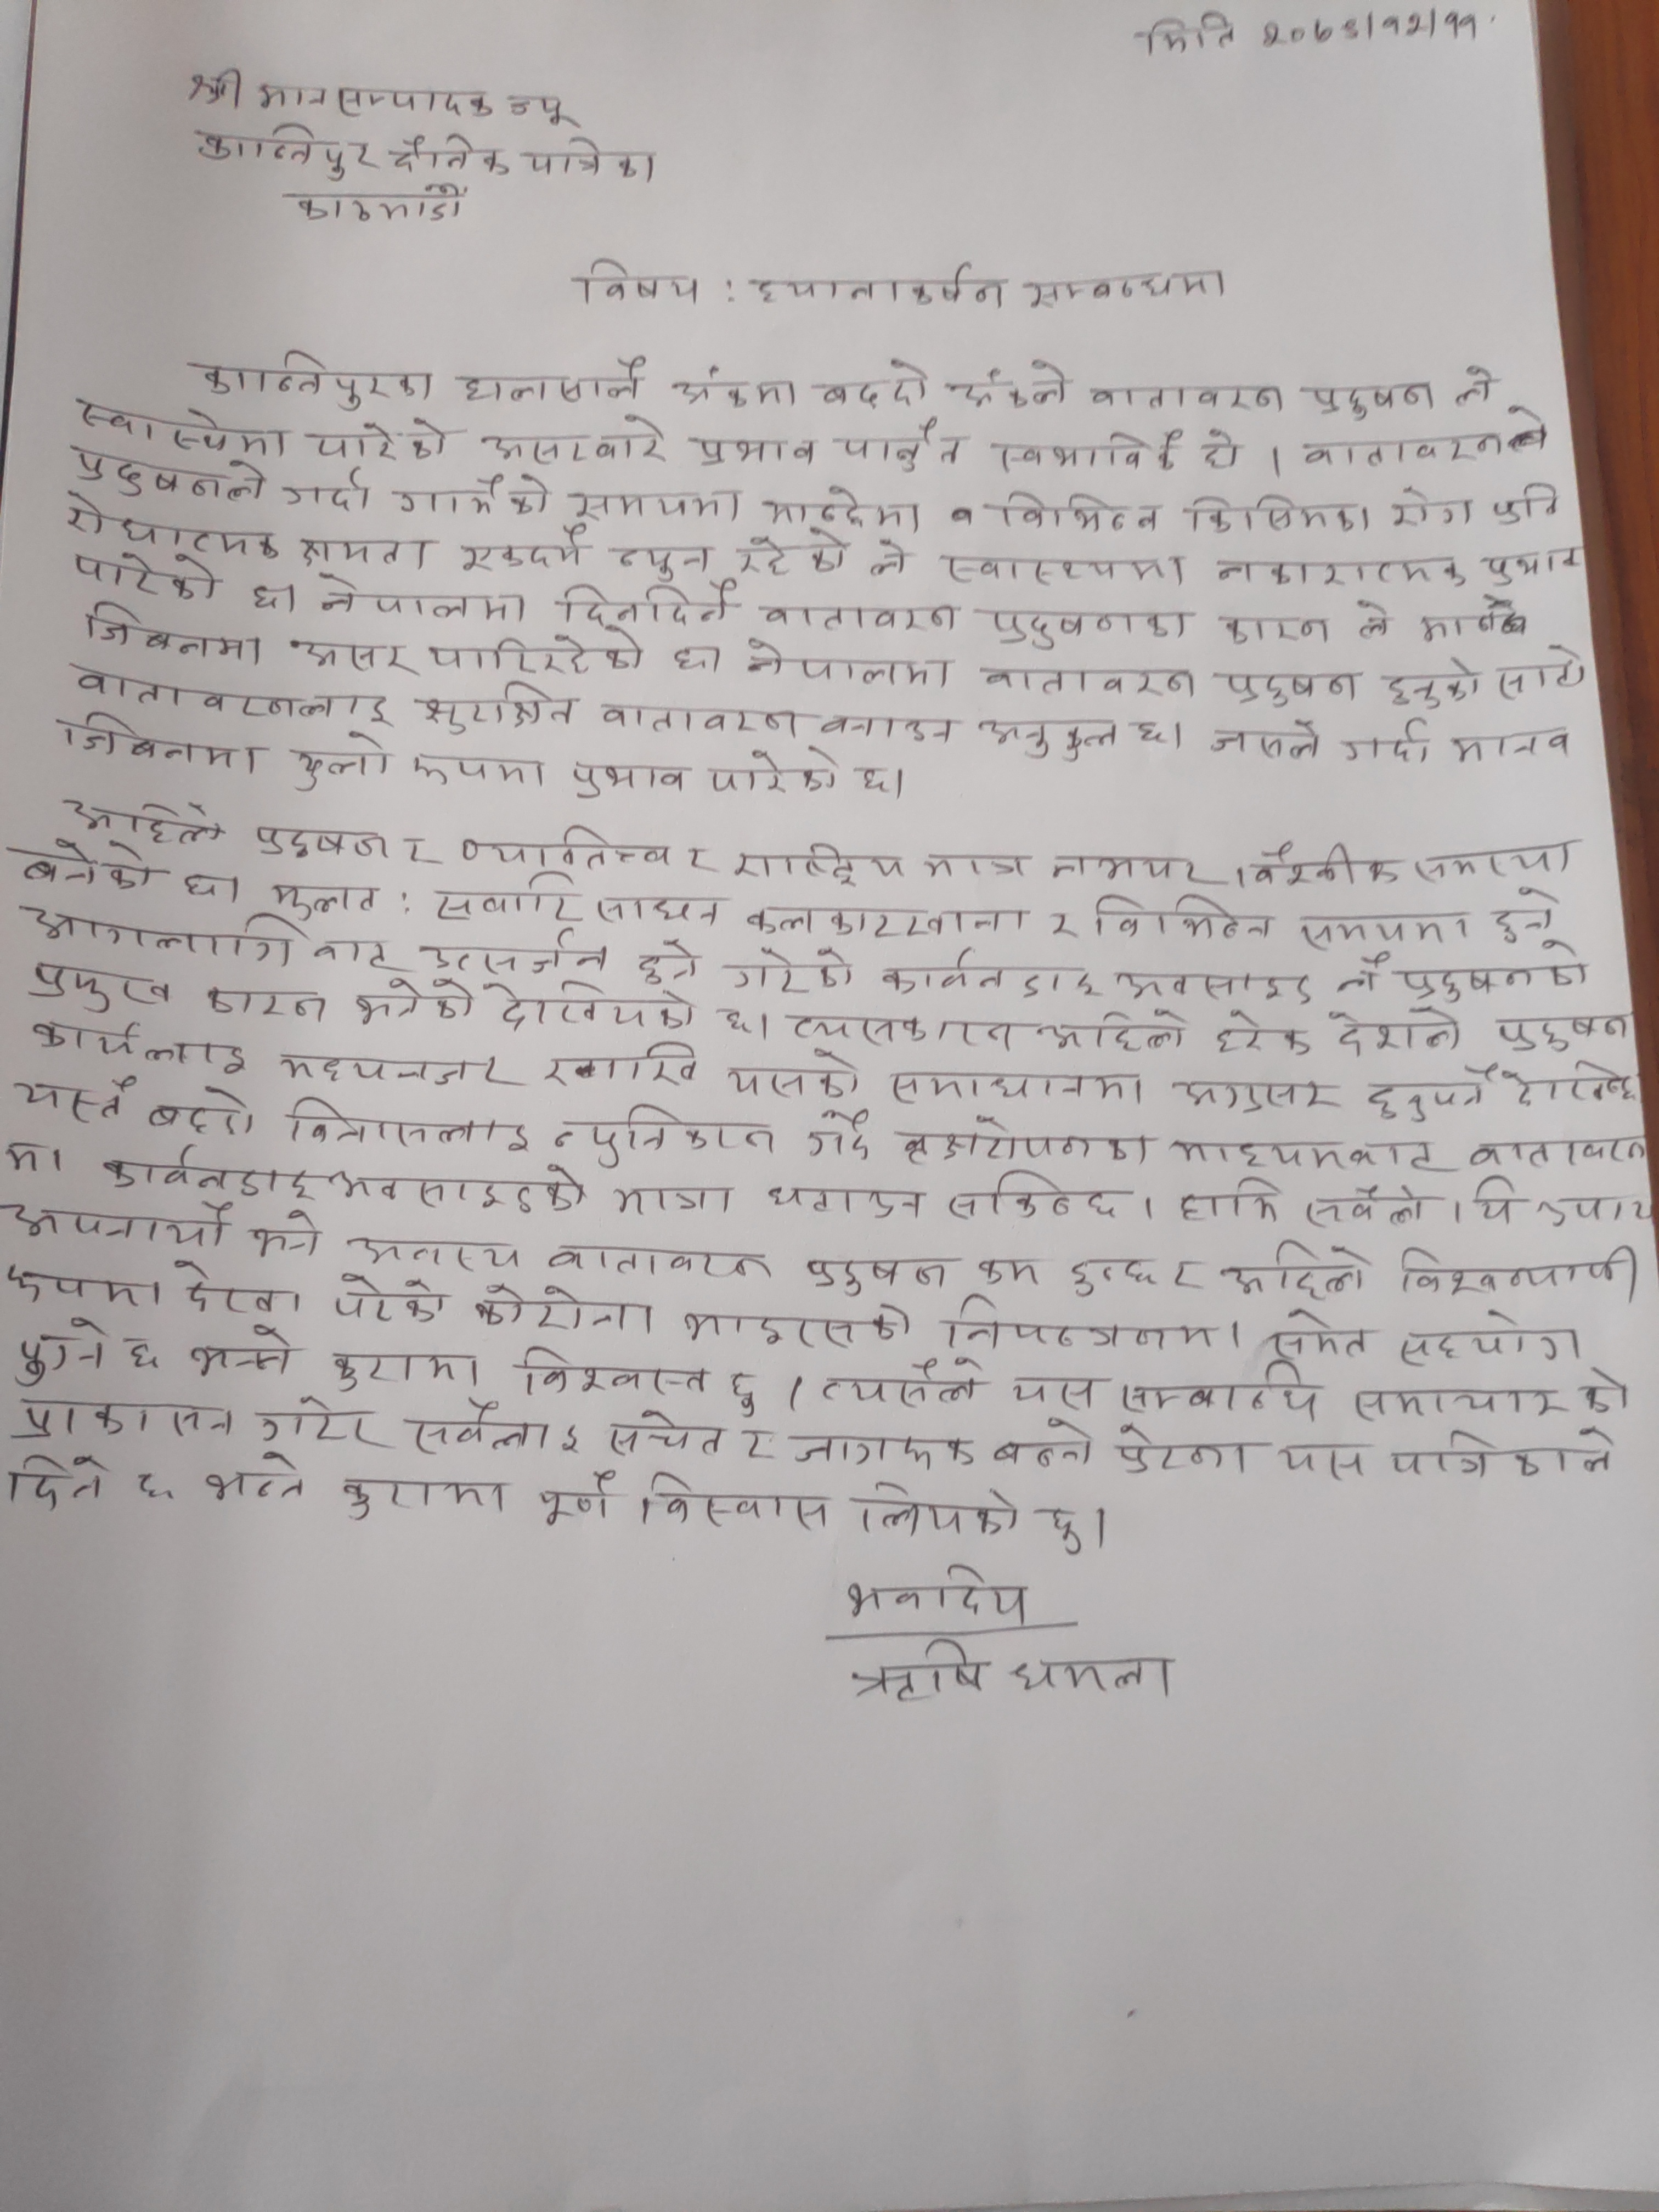text: (66, 667, 401, 728), (24, 900, 296, 975), (939, 1298, 1251, 1359), (279, 1094, 530, 1160), (551, 1099, 779, 1169), (1392, 1240, 1643, 1303), (70, 390, 295, 460), (192, 348, 439, 411), (23, 1014, 253, 1078), (329, 1162, 594, 1217), (737, 895, 1033, 944), (56, 495, 279, 559), (2, 1191, 235, 1252), (889, 1116, 1161, 1167), (71, 601, 268, 671), (1295, 416, 1554, 469), (877, 942, 1105, 1001), (1166, 1127, 1452, 1174), (270, 1040, 511, 1096), (51, 718, 263, 780), (1119, 1359, 1319, 1425), (840, 1562, 1030, 1632), (105, 1141, 321, 1202), (674, 1296, 917, 1350), (746, 261, 1009, 310), (312, 571, 533, 629), (479, 979, 701, 1036), (936, 542, 1194, 590), (878, 1062, 1145, 1109), (1384, 1428, 1621, 1480), (638, 1470, 835, 1533), (1209, 547, 1471, 594), (1396, 1308, 1588, 1371), (404, 1395, 587, 1460), (10, 1397, 235, 1449), (477, 411, 676, 469), (54, 449, 272, 502), (469, 1278, 655, 1339), (735, 637, 951, 690), (420, 629, 648, 678), (518, 1343, 711, 1400), (192, 122, 378, 181), (1019, 261, 1230, 314), (976, 601, 1194, 651), (455, 822, 676, 871), (542, 1237, 779, 1282), (781, 1007, 1016, 1052), (850, 1479, 1025, 1540), (1093, 890, 1284, 944), (1258, 7, 1486, 52), (845, 1637, 997, 1705), (812, 1353, 985, 1413), (453, 357, 652, 408), (1345, 1378, 1567, 1423), (988, 427, 1192, 475), (1215, 1238, 1373, 1301), (410, 679, 584, 735), (945, 1169, 1124, 1223), (429, 869, 591, 928), (983, 660, 1201, 704), (547, 578, 734, 629), (1389, 958, 1596, 1003), (786, 1425, 983, 1472), (64, 798, 230, 853), (1114, 1418, 1253, 1484), (1007, 1648, 1178, 1702), (162, 1256, 305, 1320), (999, 484, 1166, 538), (1110, 963, 1317, 1007), (336, 1472, 509, 1524), (537, 1040, 702, 1094), (730, 840, 906, 890), (1413, 836, 1589, 887), (420, 930, 612, 975), (796, 1245, 957, 1299), (66, 549, 221, 604), (1086, 380, 1291, 421), (599, 700, 805, 742), (343, 1228, 525, 1275), (277, 181, 472, 225), (1229, 841, 1403, 890), (28, 960, 179, 1015), (1033, 1003, 1185, 1059), (1361, 1059, 1492, 1123), (720, 1043, 866, 1101), (762, 596, 962, 637), (322, 1345, 488, 1395), (17, 841, 162, 899), (1297, 907, 1473, 954), (760, 482, 925, 531), (181, 1322, 301, 1388), (247, 1392, 385, 1449), (2, 1263, 164, 1312), (974, 712, 1122, 765), (1321, 1005, 1464, 1059), (1500, 1059, 1643, 1113), (1046, 845, 1220, 888), (1183, 493, 1378, 531), (1464, 1134, 1659, 1172), (559, 486, 746, 526), (1488, 1007, 1631, 1059), (286, 728, 396, 796), (12, 1315, 112, 1388), (394, 474, 554, 519), (706, 747, 843, 799), (328, 82, 498, 124), (716, 946, 857, 996), (1166, 1075, 1344, 1115), (451, 523, 587, 575), (143, 1080, 261, 1139), (565, 260, 706, 308), (342, 979, 477, 1029), (765, 1181, 929, 1223), (601, 1407, 727, 1461), (669, 362, 798, 415), (408, 747, 556, 792), (1384, 650, 1483, 716), (291, 631, 420, 681), (9, 1451, 110, 1515), (830, 416, 936, 477), (948, 359, 1075, 409), (992, 1418, 1100, 1477), (521, 139, 662, 185), (249, 820, 390, 866), (1300, 1181, 1431, 1230), (16, 1073, 136, 1125), (199, 979, 331, 1026), (1309, 373, 1436, 421), (329, 1277, 448, 1329), (1216, 669, 1363, 711), (1493, 643, 1591, 705), (735, 524, 849, 578), (310, 416, 450, 460), (387, 132, 511, 181), (1202, 716, 1324, 765), (1178, 1174, 1284, 1230), (1443, 721, 1574, 766), (1263, 1310, 1371, 1364), (202, 1453, 310, 1507), (819, 357, 931, 409), (1415, 599, 1534, 648), (1204, 1010, 1314, 1062), (1534, 1186, 1659, 1231), (1335, 718, 1439, 772), (587, 892, 725, 930), (606, 1179, 735, 1219), (291, 531, 432, 568), (816, 709, 960, 744), (533, 1468, 615, 1529), (694, 430, 817, 470), (1138, 12, 1239, 59), (261, 881, 380, 921), (803, 1104, 878, 1167), (1277, 1435, 1373, 1484), (1384, 482, 1478, 531), (279, 470, 380, 516), (570, 763, 688, 801), (1483, 547, 1591, 589), (1004, 1369, 1100, 1416), (606, 542, 713, 583), (1483, 887, 1565, 941), (246, 1207, 322, 1264), (1486, 479, 1570, 529), (1220, 611, 1333, 648), (631, 937, 709, 989), (917, 850, 1033, 885), (1068, 1254, 1157, 1299), (1572, 1359, 1638, 1416), (185, 64, 249, 117), (504, 85, 577, 131), (2, 1136, 71, 1183), (312, 939, 406, 972), (1471, 1174, 1521, 1231), (1042, 1500, 1087, 1562), (1446, 362, 1504, 411), (967, 1254, 1039, 1292), (253, 80, 329, 115), (1330, 954, 1391, 996), (734, 1420, 781, 1474), (861, 535, 911, 580), (246, 580, 301, 620), (1354, 592, 1398, 643), (131, 1468, 181, 1510), (1201, 430, 1246, 474), (1161, 1254, 1204, 1299), (120, 1332, 166, 1376), (721, 1367, 758, 1420), (1133, 712, 1173, 756), (854, 756, 892, 798), (401, 833, 439, 871), (183, 866, 221, 904), (934, 434, 974, 470), (674, 641, 713, 678), (680, 841, 716, 878), (713, 1003, 749, 1040), (1042, 907, 1080, 941)
